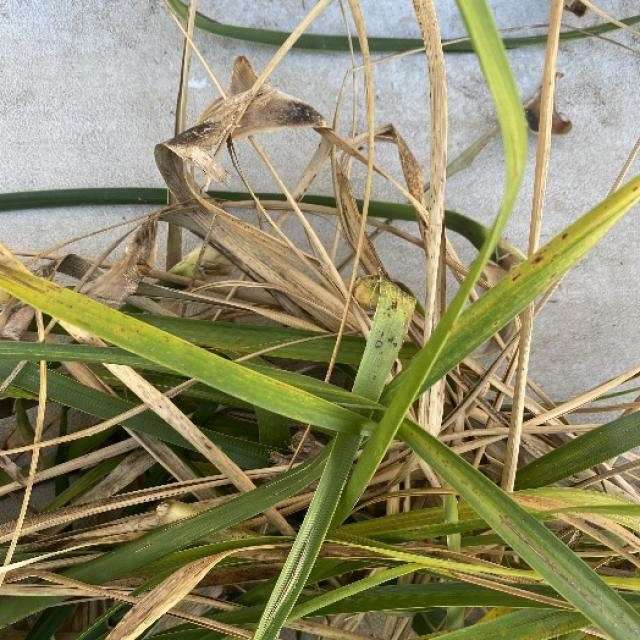organik: (24, 190, 639, 640)
